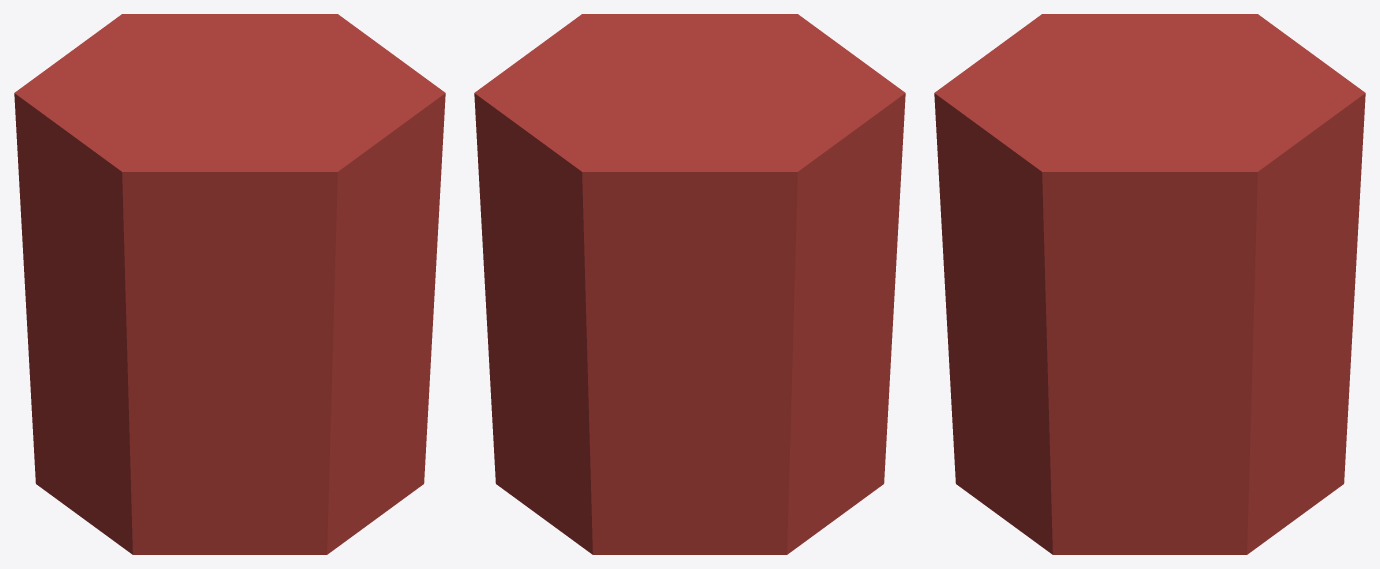
The model's file is rear_master_lod2.glb.
3 views of the same model, side by side, from view 1: azimuth 30°, elevation 25°; view 2: azimuth 150°, elevation 25°; view 3: azimuth 270°, elevation 25° (orthographic).
Parts seen in each view (by area): view 1: rear_master_lod2; view 2: rear_master_lod2; view 3: rear_master_lod2.
Boxes of the visible parts, left/top/right/bottom form: rear_master_lod2: left=14, top=14, right=445, bottom=554; rear_master_lod2: left=474, top=14, right=905, bottom=554; rear_master_lod2: left=934, top=14, right=1365, bottom=554.
Size of the model in its own units: 0.0346 by 0.04 by 0.04.
